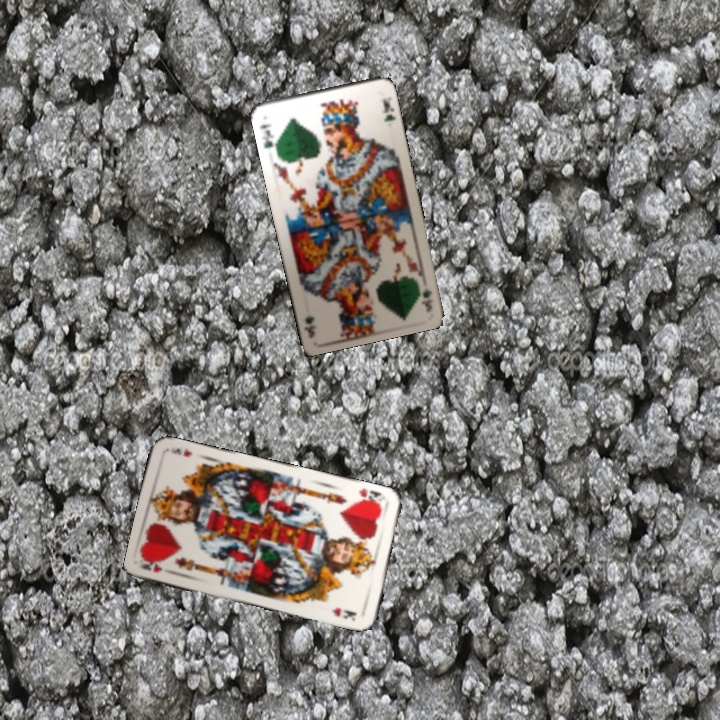GK: (413, 274, 436, 314), (255, 120, 280, 154)
HK: (352, 484, 386, 508), (138, 557, 165, 575)
